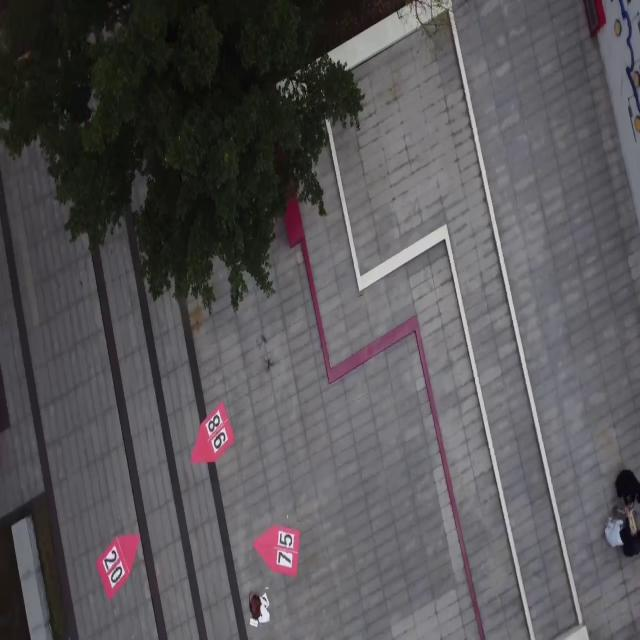-sign-: (95, 531, 140, 599), (190, 399, 235, 466), (253, 524, 300, 579)
